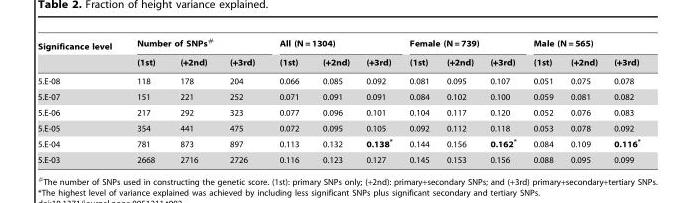table: (37, 37, 639, 164)
table column: (37, 37, 123, 164), (167, 37, 217, 164), (217, 37, 266, 164), (310, 37, 357, 164), (123, 37, 167, 164), (266, 37, 310, 164), (437, 37, 481, 164), (561, 37, 605, 164), (357, 37, 400, 164), (481, 37, 524, 164), (400, 37, 437, 164), (524, 37, 561, 164), (605, 37, 639, 164)
table column header: (37, 37, 639, 71)
table row: (37, 53, 639, 71), (37, 71, 639, 88), (37, 37, 639, 53), (37, 88, 639, 104), (37, 104, 639, 120), (37, 135, 639, 151), (37, 120, 639, 135), (37, 151, 639, 164)
table spanning cell: (37, 37, 123, 71), (123, 37, 266, 53), (266, 37, 400, 53), (400, 37, 524, 53), (524, 37, 639, 53)
